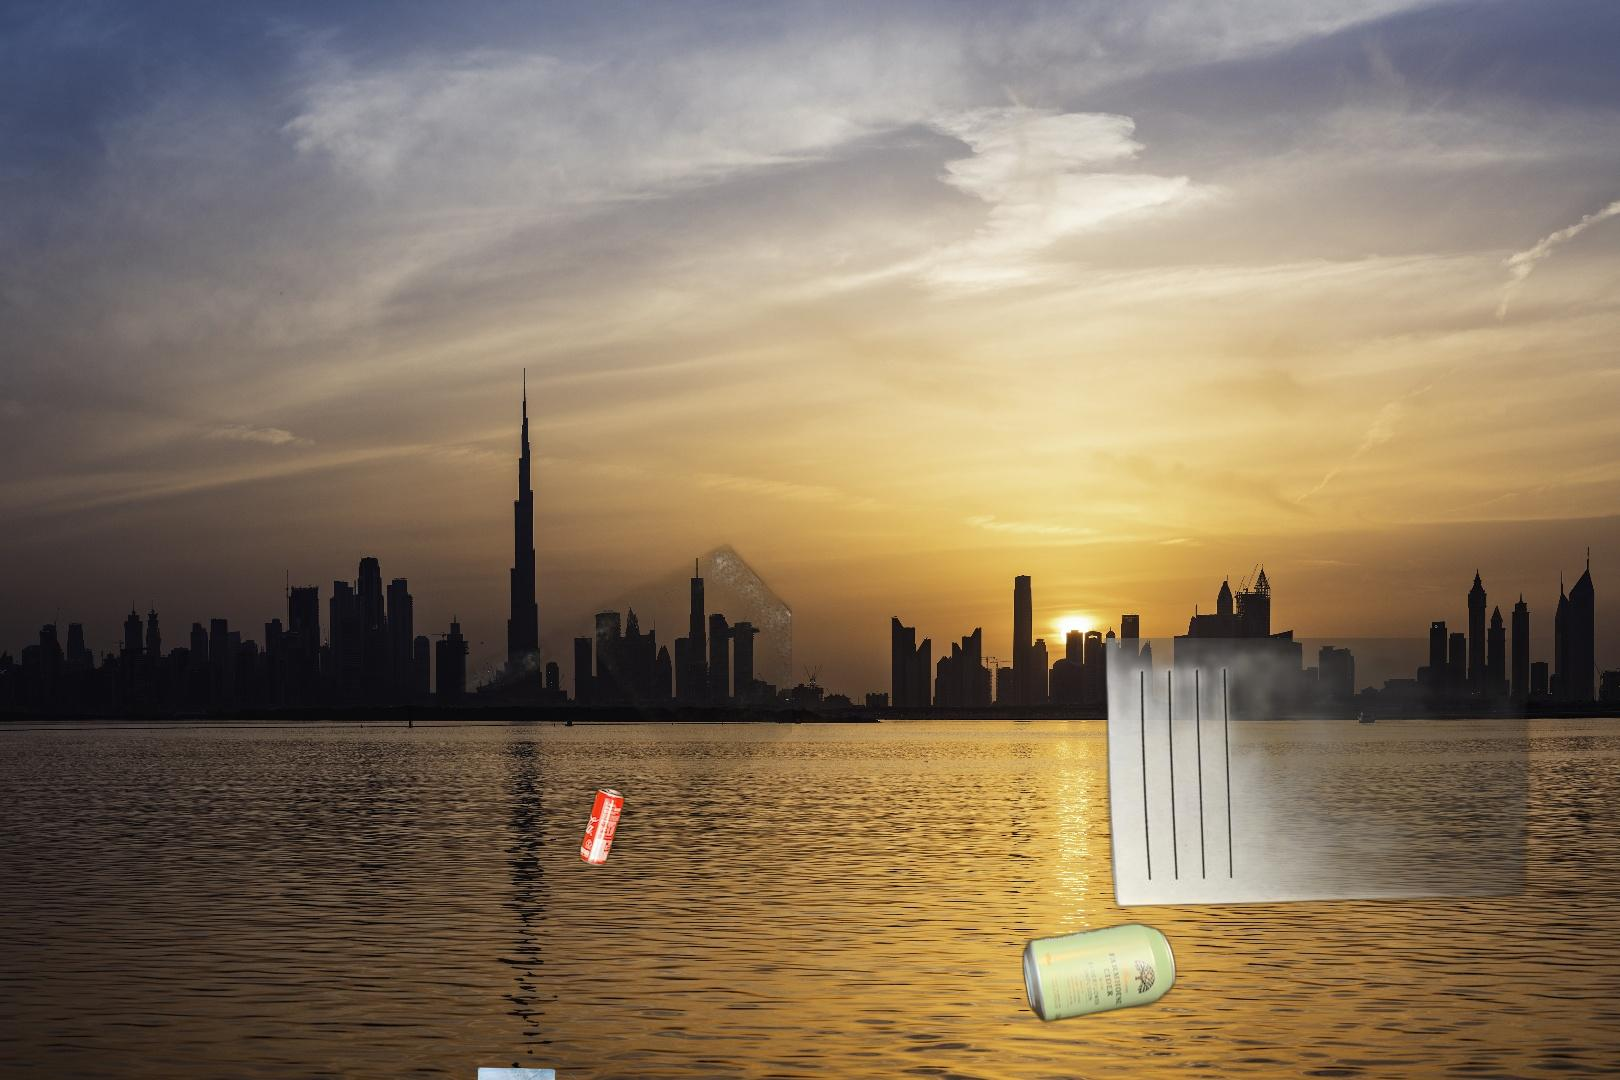glass: (280, 292, 792, 975)
metal-cans: (1019, 918, 1180, 1027), (575, 781, 630, 873)
paper: (1099, 638, 1561, 910)
trash: (454, 1064, 580, 1080)
